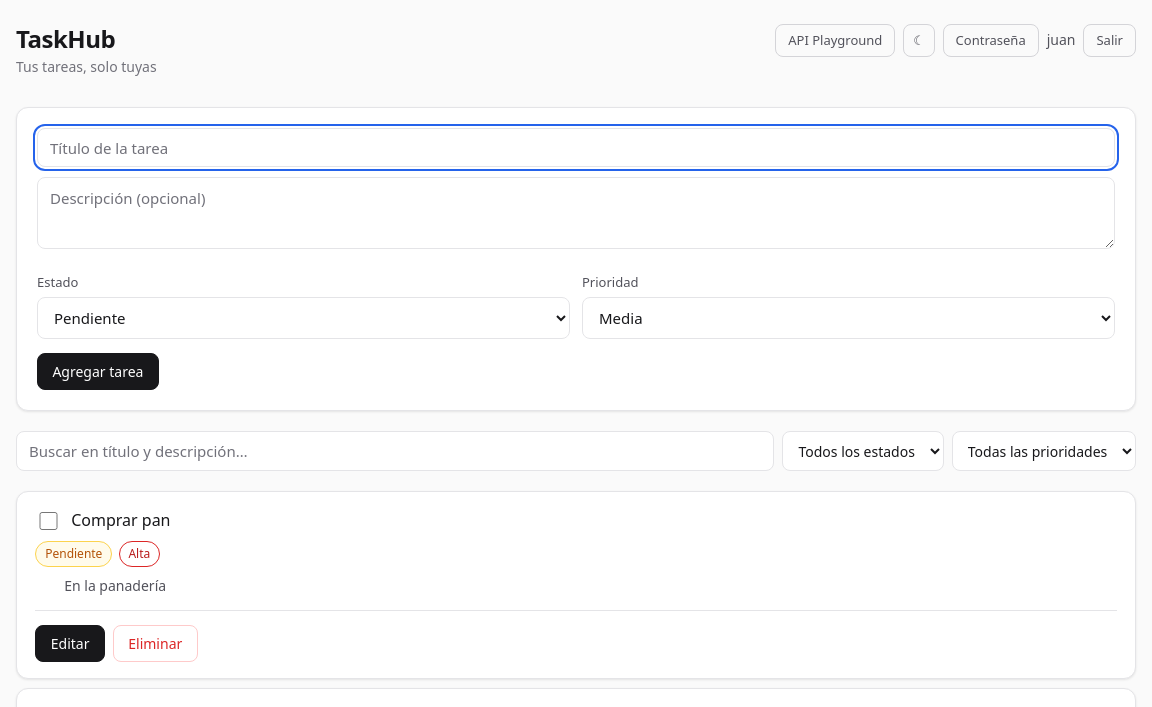
Scenario: filtros: los resuelve la API, no el navegador › el botón de limpiar solo aparece cuando hay algún filtro
Expected: the button "limpiar" is not shown
Select "Pendiente" in the dropdown named "filtrar por estado": [863, 451] box [782,431,944,471]
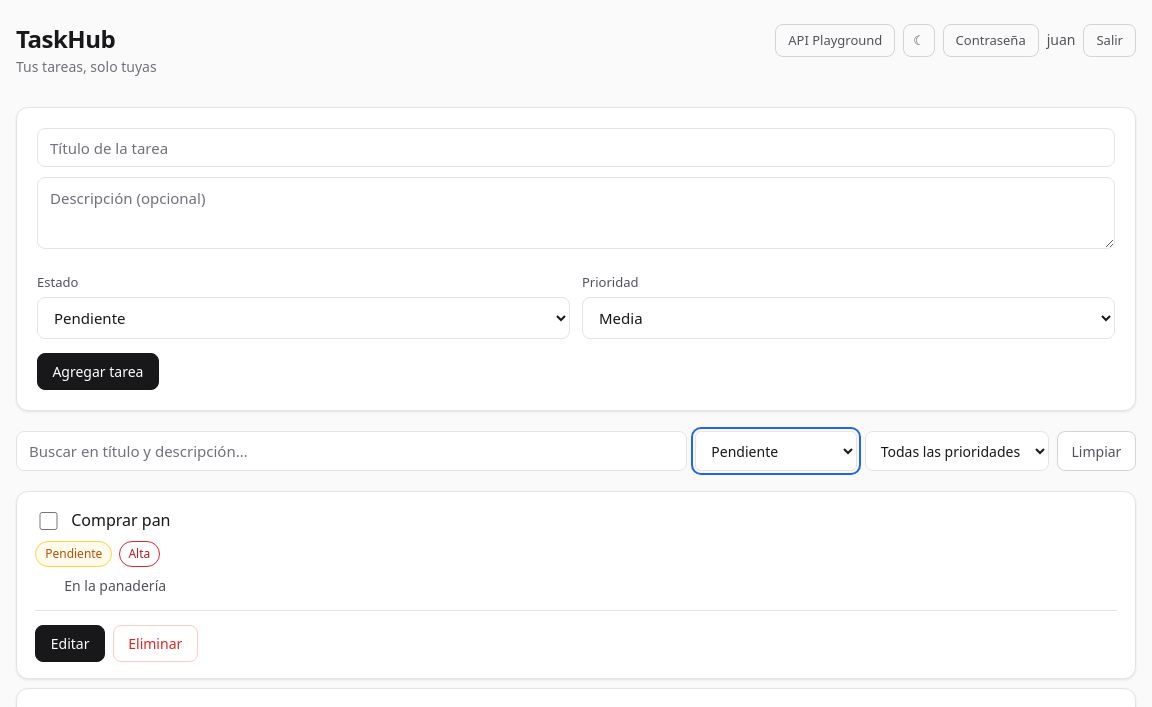
Now the button "Limpiar" is shown, box [1057,431,1136,471]
